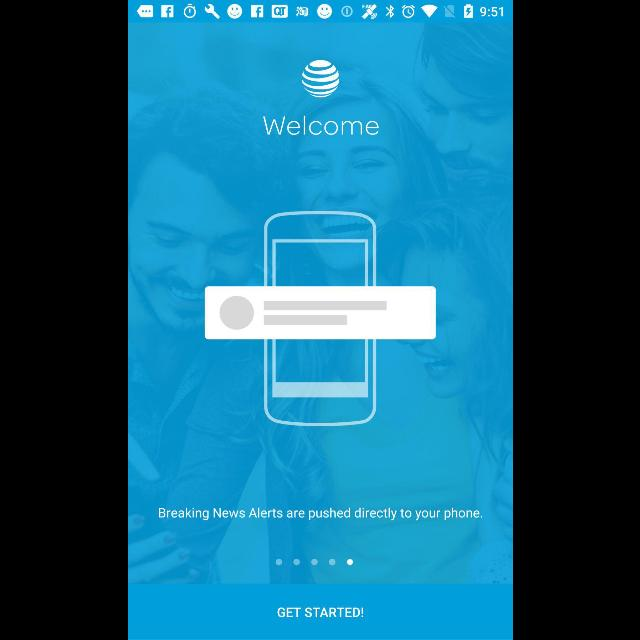backgroundimage: (128, 23, 512, 584)
image: (202, 210, 436, 428), (300, 60, 340, 98)
pageindicator: (275, 558, 353, 566)
text: (158, 507, 482, 521), (262, 115, 378, 136)
textbutton: (128, 584, 512, 640)
uppertaskbar: (128, 1, 512, 23)
